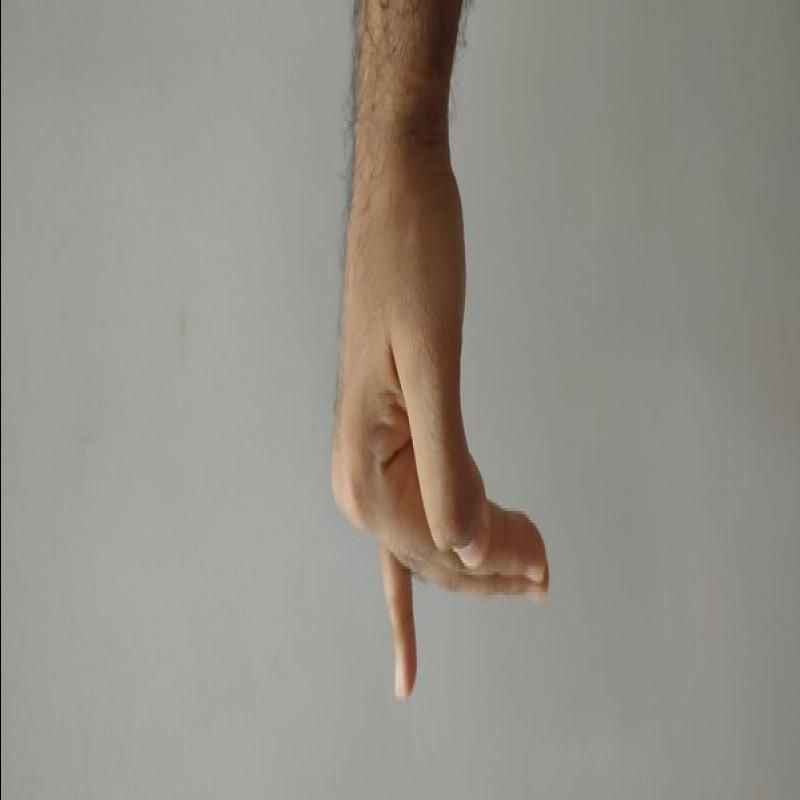Kartharee Mukham: (295, 181, 569, 713)
